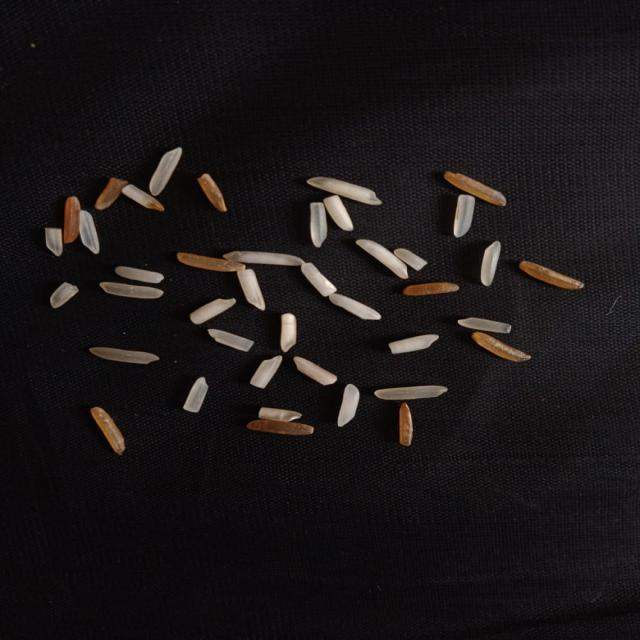Broken: (443, 171, 507, 207), (472, 331, 532, 363), (518, 261, 584, 290), (91, 406, 126, 456), (177, 252, 246, 272), (293, 356, 338, 386), (189, 298, 236, 325), (301, 262, 337, 297), (237, 269, 266, 311), (197, 173, 228, 212), (122, 184, 164, 212), (250, 355, 283, 389), (323, 195, 354, 231), (95, 177, 128, 210), (208, 329, 254, 352), (388, 334, 440, 354), (453, 194, 476, 238), (247, 420, 314, 435), (182, 377, 209, 413), (458, 317, 512, 334), (63, 196, 81, 244), (115, 266, 165, 283), (402, 282, 460, 296), (50, 282, 79, 309), (310, 202, 327, 248), (393, 249, 428, 271), (258, 407, 302, 423), (399, 402, 414, 447), (281, 313, 297, 353), (44, 228, 63, 256)
Full: (307, 177, 382, 206), (356, 239, 408, 280), (149, 147, 182, 196), (329, 293, 382, 320), (222, 251, 304, 266), (90, 347, 160, 364), (374, 385, 448, 400), (99, 282, 164, 299), (77, 210, 100, 255), (338, 383, 360, 427), (480, 241, 501, 287)
